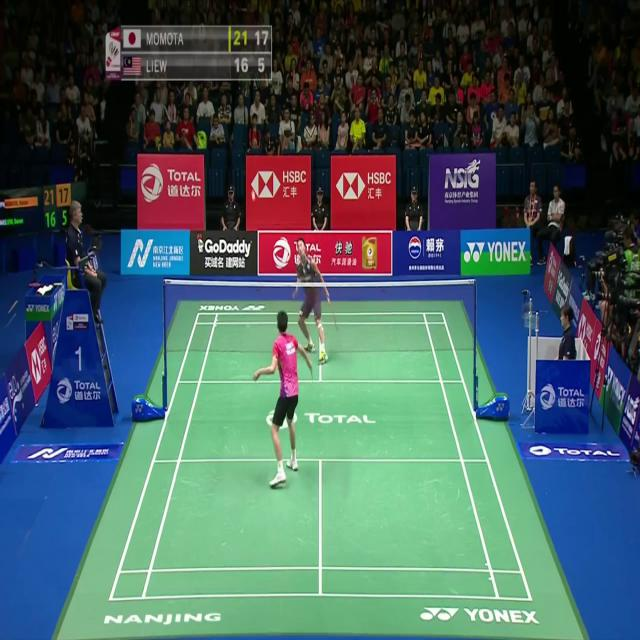Shuttlecock: (249, 190, 256, 201)
